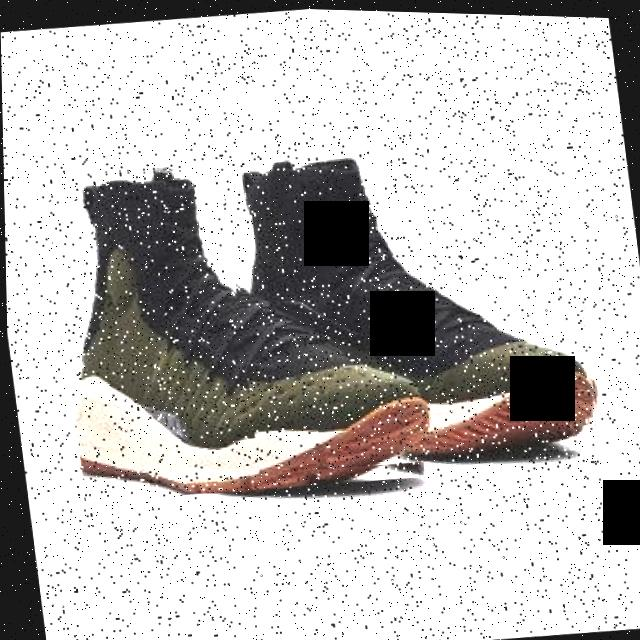shoe: (43, 136, 441, 510), (219, 127, 603, 480)
